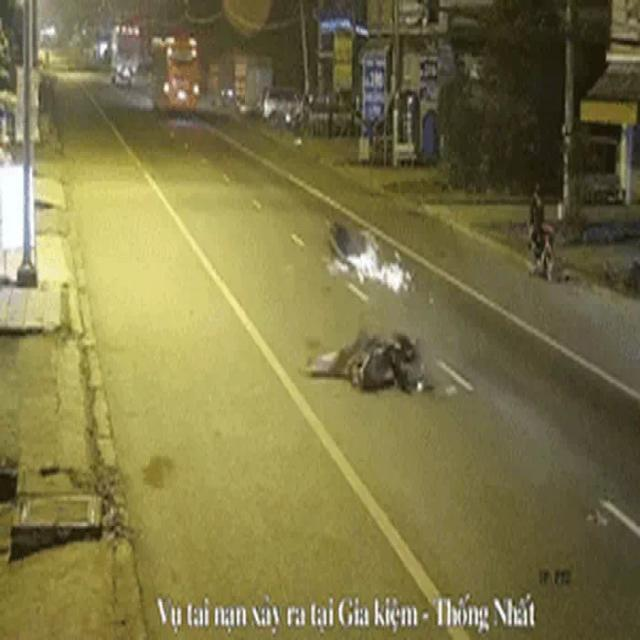multiple_accident: (305, 208, 434, 407)
